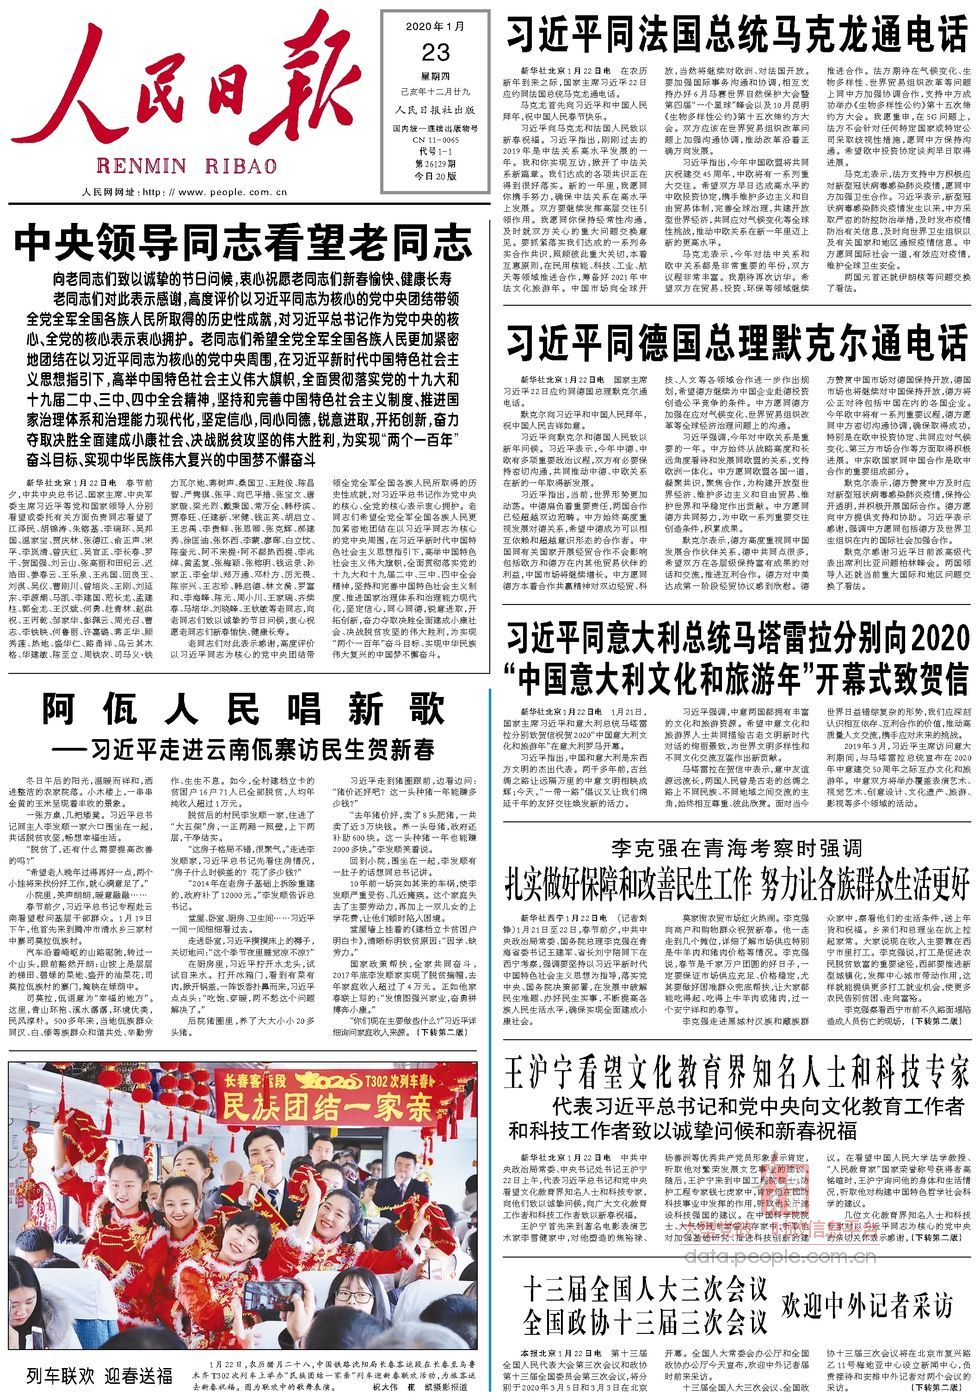pic: (5, 1056, 483, 1354)
